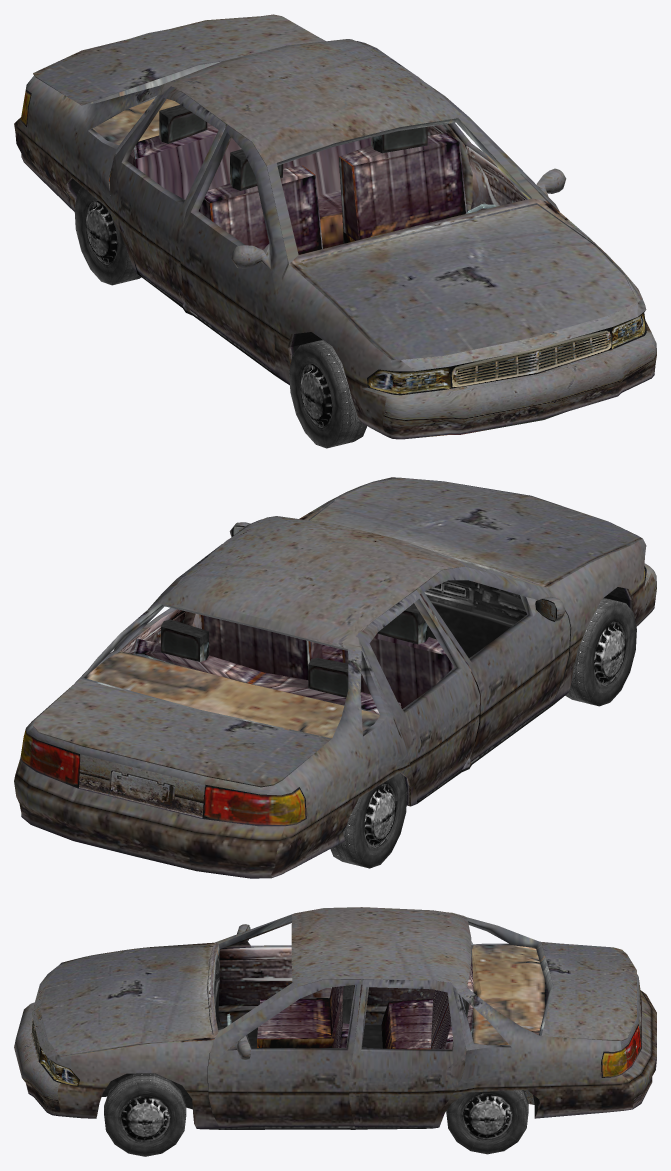
The model's file is Model_Cars_Caprise.fbx.
The picture shows the model from 3 angles, top to bottom: view 1: azimuth 30°, elevation 25°; view 2: azimuth 150°, elevation 25°; view 3: azimuth 270°, elevation 25°; orthographic projection. The views are drawn at different scales.
Visible parts, largest first — view 1: Car_Body, RF_Wheel, RB_Wheel; view 2: Car_Body, RF_Wheel, RB_Wheel; view 3: Car_Body, LF_Wheel, LB_Wheel.
Part boxes in pixels (x1,y1,x2,y2): Car_Body: (14,14,656,439); RF_Wheel: (289,340,367,448); RB_Wheel: (74,187,141,285); Car_Body: (14,477,656,878); RF_Wheel: (565,598,636,706); RB_Wheel: (330,773,407,868); Car_Body: (14,907,656,1129); LF_Wheel: (104,1073,186,1156); LB_Wheel: (446,1090,528,1154).
Bounding box in the file's own units: 241 × 148 × 521.
